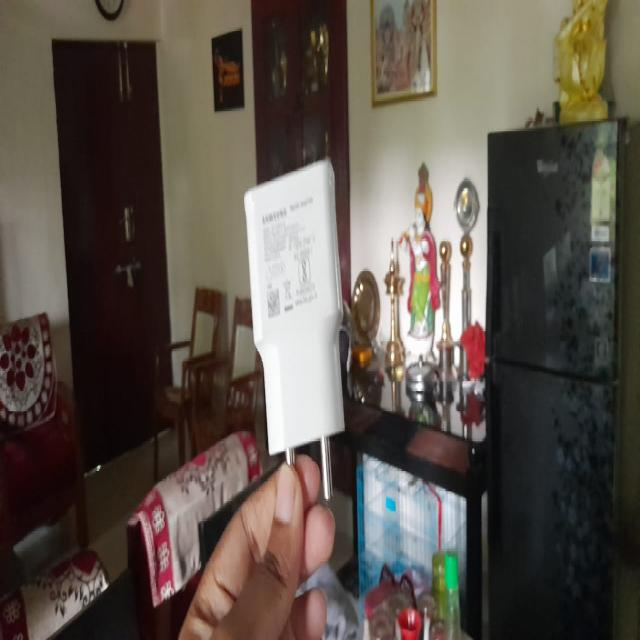Charger - Recyclable: (242, 156, 346, 500)
